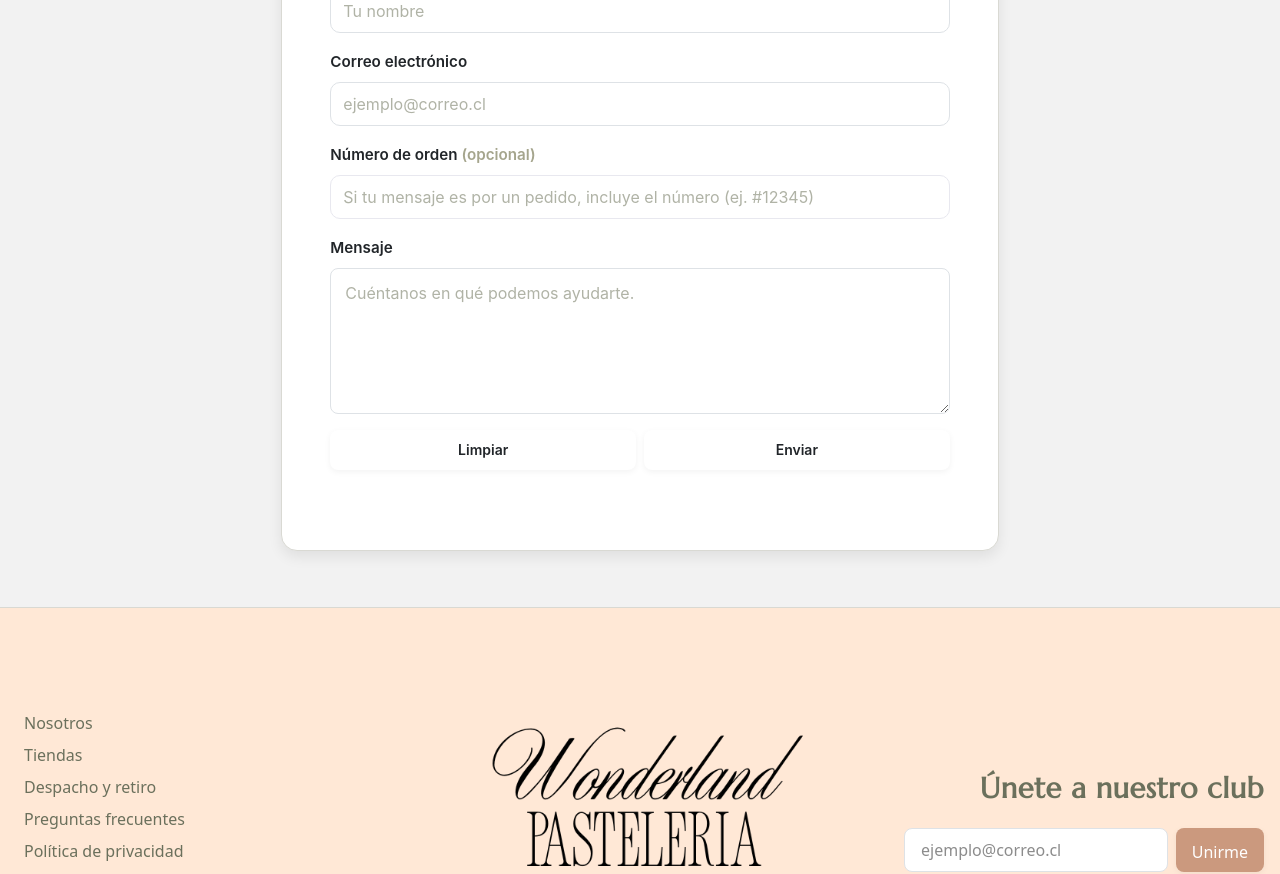
Test: Contacto.jsx › muestra error si el nombre está vacío
The image size is (1280, 874).
(page scrolled)
Click the button "Enviar": point(797, 450) [644,430,950,470]
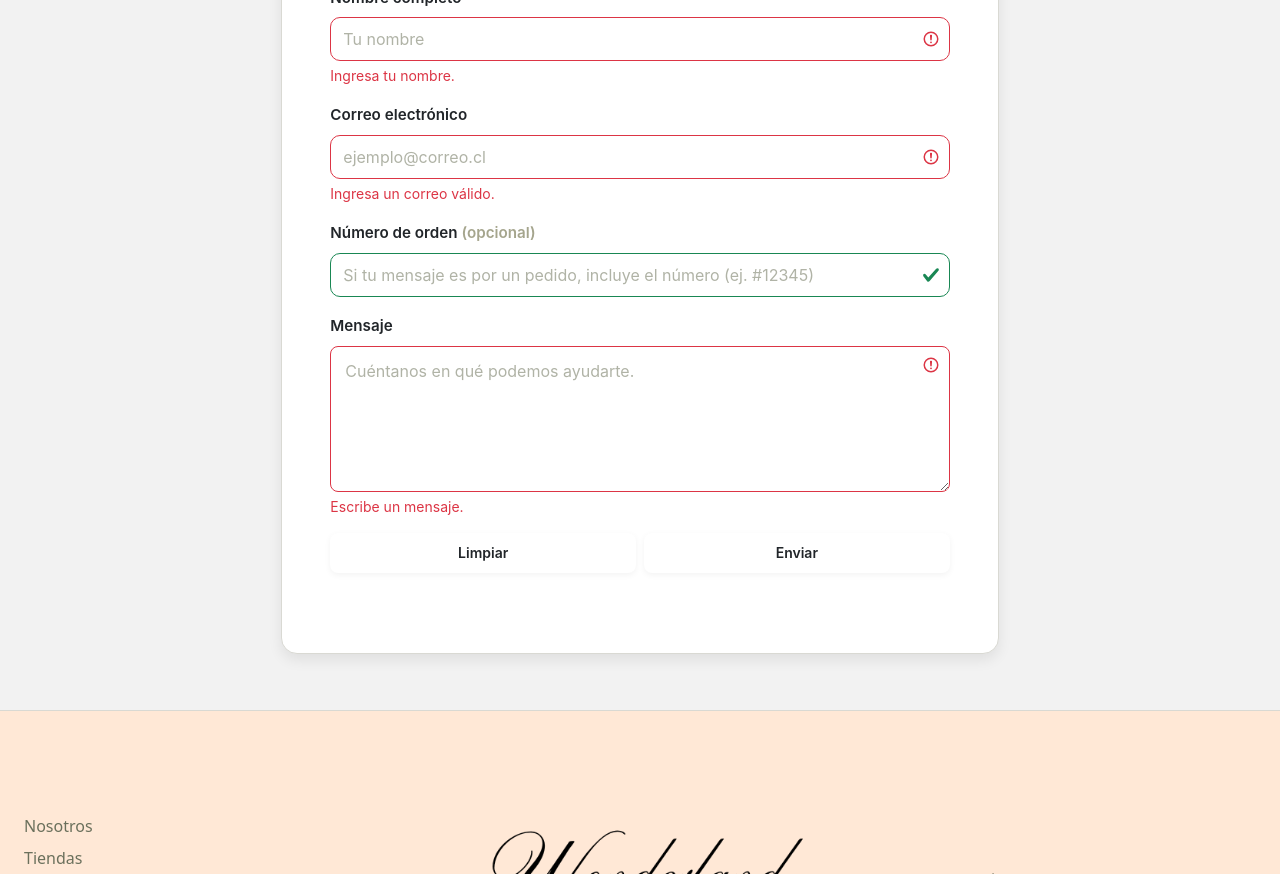
Expected: the text "Ingresa tu nombre." is shown, [330,67,455,84]
